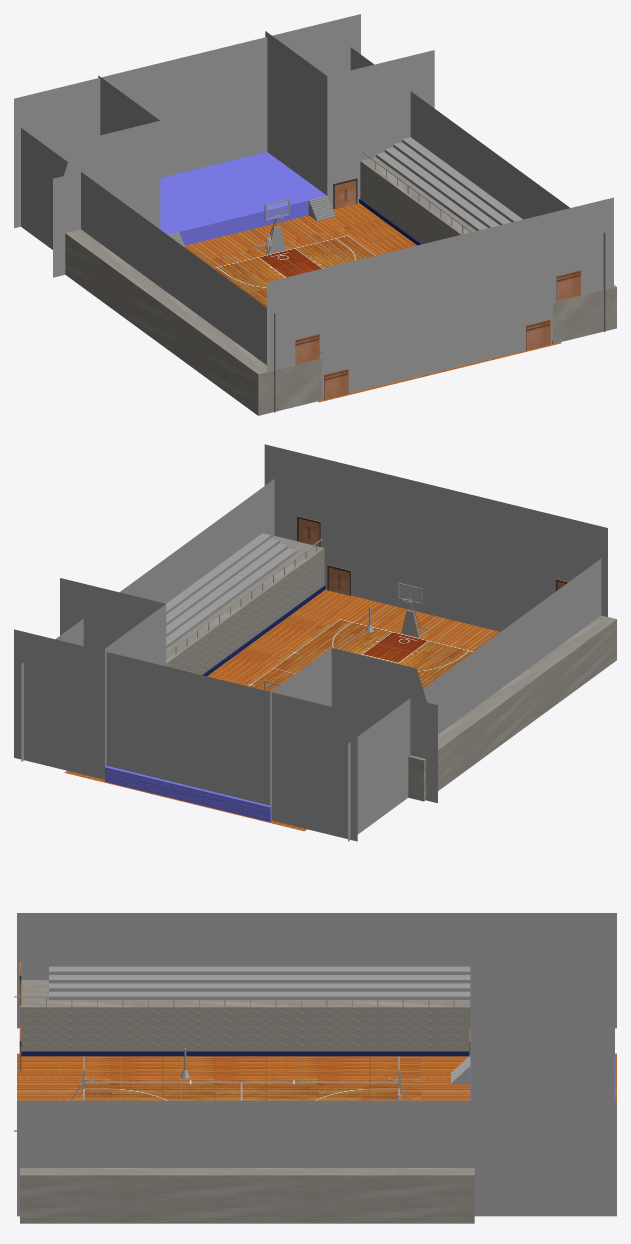
Rendered from gym.fbx.
3 views of the same model, one above another, from view 1: azimuth 30°, elevation 25°; view 2: azimuth 150°, elevation 25°; view 3: azimuth 270°, elevation 25° (orthographic). The views are drawn at different scales.
Parts seen in each view (by area): view 1: back, front, right_f, side2, second_floor, floor, left_f, stage, second_floor3, side1, pPlane6, double_door3 (+4 smaller); view 2: front, back, side2, floor, second_floor, left_f, second_floor3, side1, right_f, pPlane6, stage, double_door2 (+1 smaller); view 3: side1, side2, second_floor, second_floor3, floor, pPlane4, left_f, right_f, handrail.
Part boxes in pixels (x1,y1,x2,y2): back: (267, 197, 613, 399); front: (14, 14, 360, 228); right_f: (265, 31, 434, 208); side2: (21, 128, 275, 412); second_floor: (65, 229, 322, 415); floor: (185, 203, 561, 402); left_f: (53, 75, 160, 277); stage: (160, 152, 326, 245); second_floor3: (359, 157, 616, 344); side1: (350, 47, 605, 331); pPlane6: (376, 137, 522, 230); double_door3: (324, 368, 348, 399); front: (14, 629, 357, 841); back: (264, 444, 607, 631); side2: (348, 558, 601, 841); floor: (64, 589, 499, 831); second_floor: (408, 615, 616, 801); left_f: (270, 648, 437, 807); second_floor3: (166, 536, 325, 676); side1: (21, 479, 274, 761); right_f: (60, 578, 166, 766); pPlane6: (166, 533, 296, 648); stage: (105, 766, 271, 821); double_door2: (327, 565, 351, 595); side1: (17, 1100, 616, 1216); side2: (17, 913, 616, 1028); second_floor: (20, 980, 470, 1056); second_floor3: (20, 1168, 474, 1223); floor: (17, 1053, 616, 1100); pPlane4: (49, 966, 470, 999); left_f: (470, 921, 614, 1056); right_f: (470, 1012, 614, 1100); handrail: (14, 996, 470, 1006).
Bounding box in the file's own units: 2079 × 701 × 2440.
